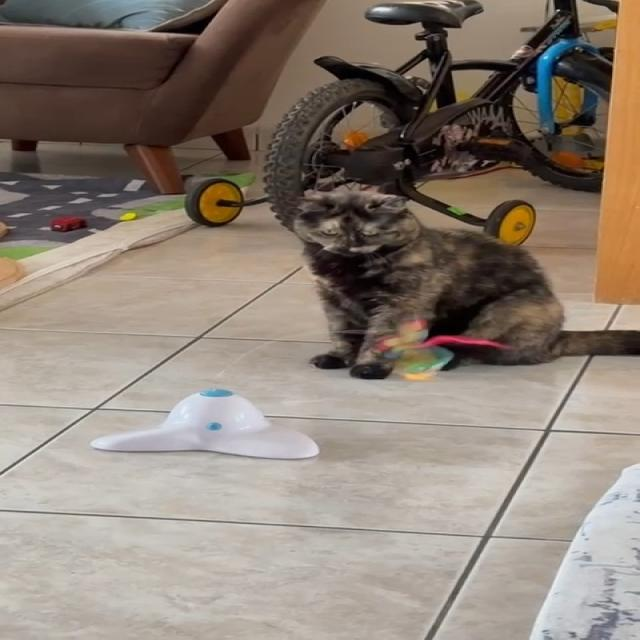authorized: (289, 188, 639, 379)
